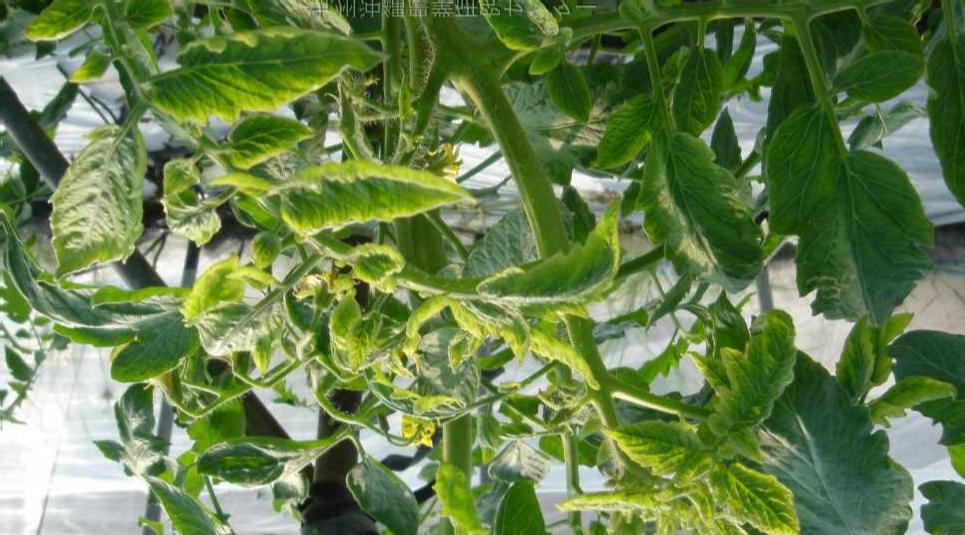Tomato leaf yellow virus: (144, 25, 391, 123), (40, 110, 170, 293), (487, 205, 632, 328), (260, 160, 487, 237), (706, 311, 802, 445), (713, 454, 807, 535), (178, 248, 255, 346), (610, 406, 706, 481), (450, 0, 574, 58)
